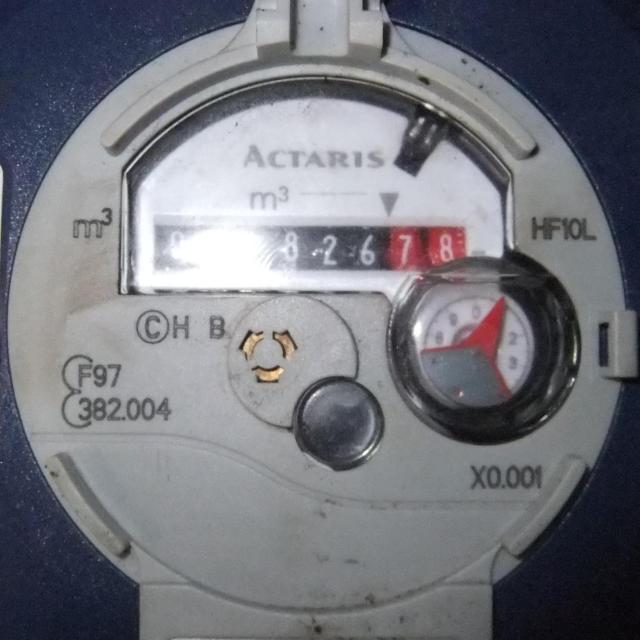gaz_meter: (10, 10, 632, 594)
indication: (155, 221, 461, 273)
